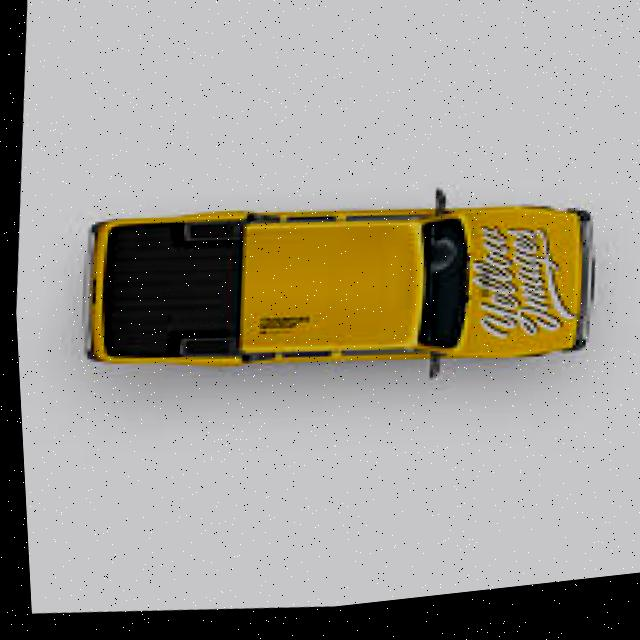truck: (76, 174, 595, 412)
